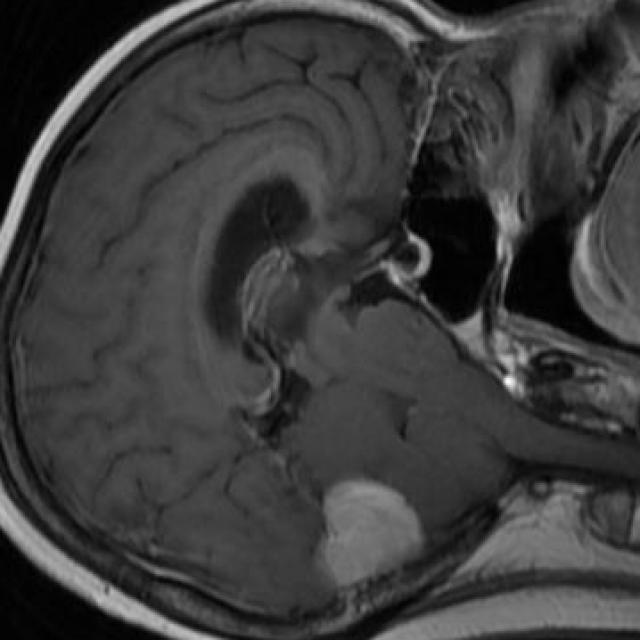meningioma: (323, 480, 424, 588)
